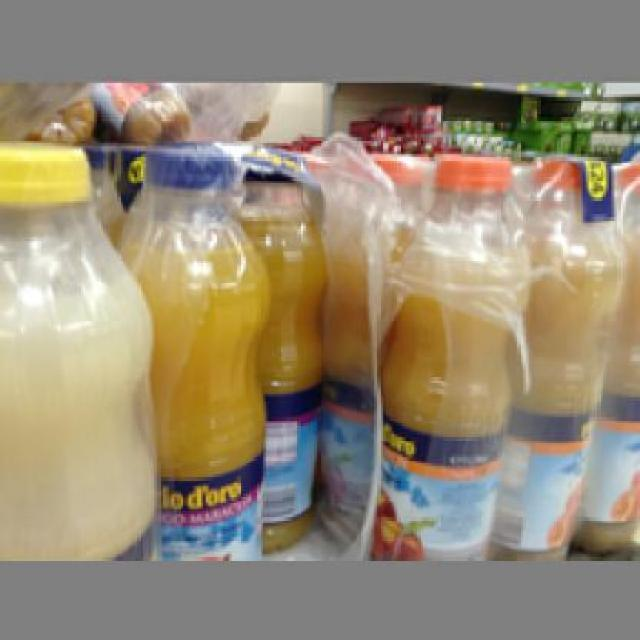Juice: (0, 132, 157, 558), (371, 148, 526, 554), (126, 134, 263, 557)
